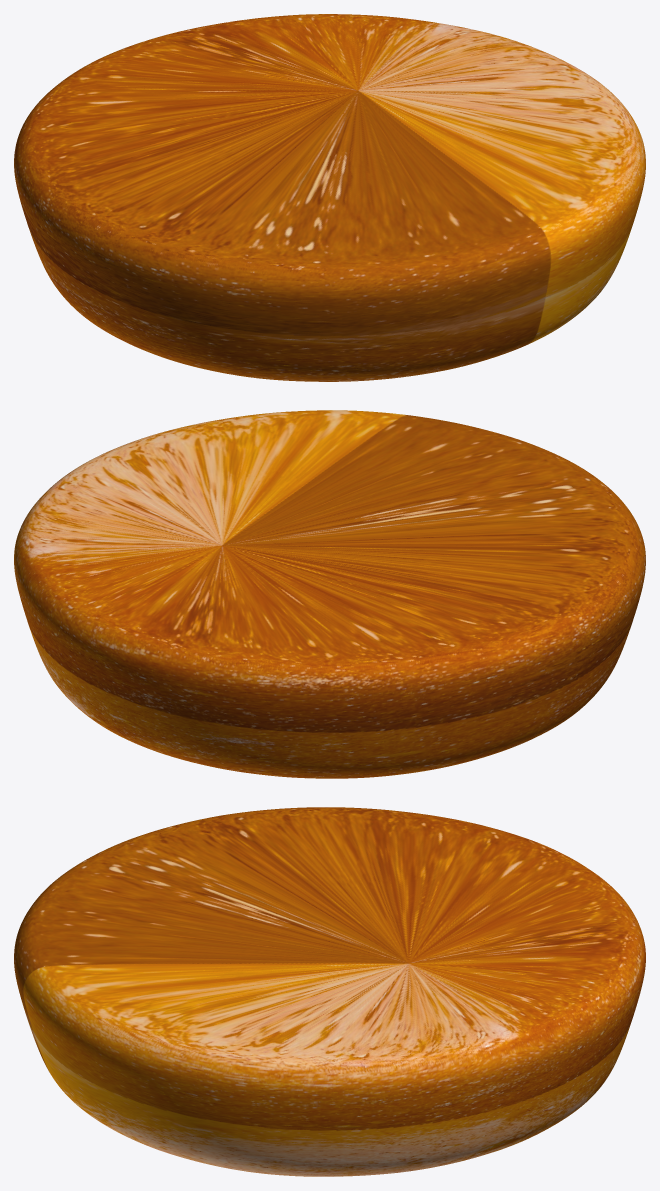
Rendered from bun_bottom.glb.
3 views of the same model, one above another, from view 1: azimuth 30°, elevation 25°; view 2: azimuth 150°, elevation 25°; view 3: azimuth 270°, elevation 25° (orthographic).
Parts seen in each view (by area): view 1: Cylinder; view 2: Cylinder; view 3: Cylinder.
Part boxes in pixels (box(x1,y1,x2,y2)): Cylinder: box(14, 14, 645, 381); Cylinder: box(14, 410, 645, 778); Cylinder: box(14, 807, 645, 1176).
Size of the model in its own units: 2.02 by 0.4985 by 2.01.
Materials: 1 (1 with a texture image).
